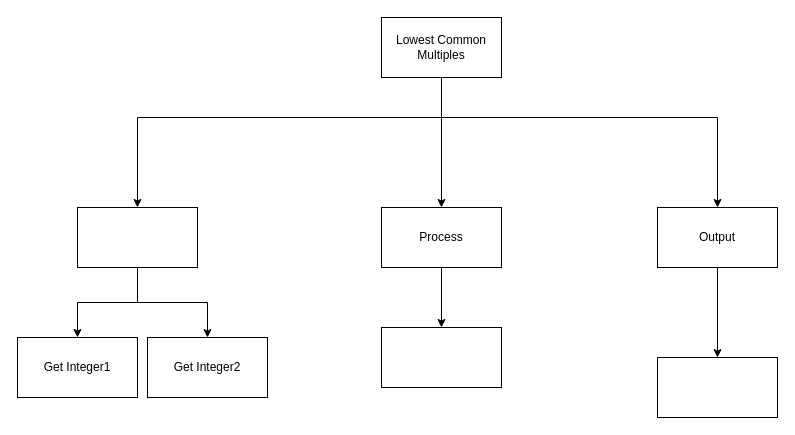
Some shapes in this 795 by 435 pixel diagram are drawn without their labels. Here are the shapes that lost their labels. From the top down, the box of each, then its label:
(76, 206, 198, 268): Input
(380, 326, 502, 388): Process the LCM of the two inputted integers.
(656, 356, 778, 418): Show LCM of the two numbers
